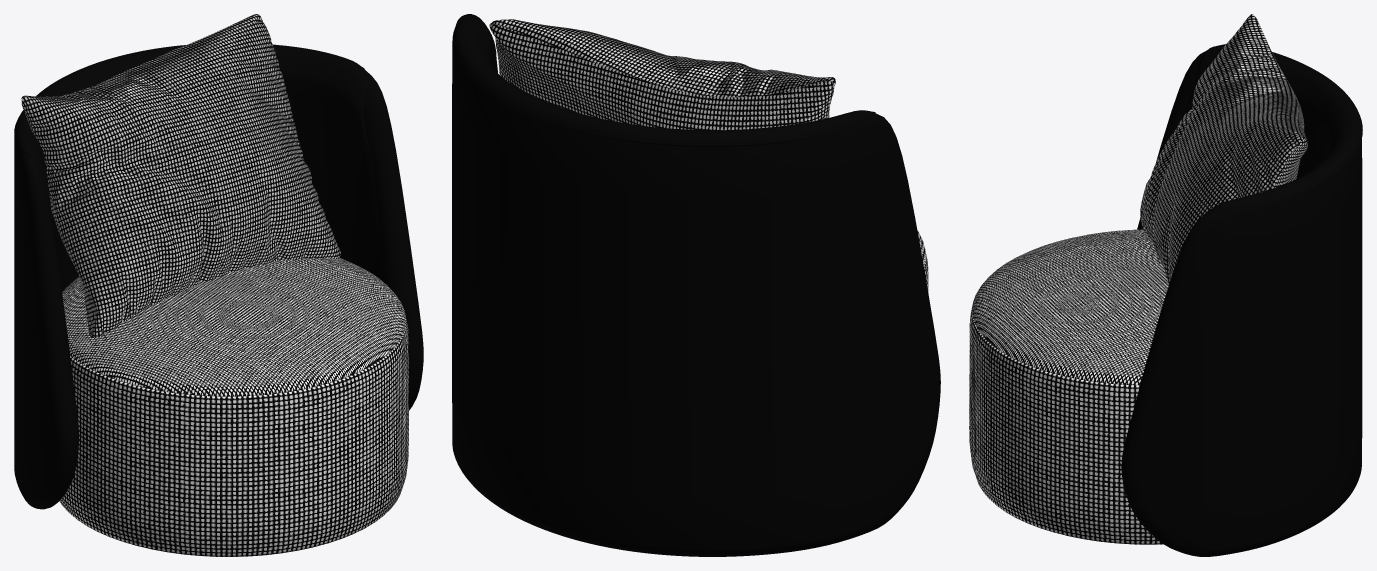
Rendered from pyora -opt.glb.
3 renders of one model, left to right at view 1: azimuth 30°, elevation 25°; view 2: azimuth 150°, elevation 25°; view 3: azimuth 270°, elevation 25°, orthographic. The views are drawn at different scales.
Visible parts, largest first — view 1: Sphere001; view 2: Sphere001; view 3: Sphere001.
Part boxes in pixels (<box>): Sphere001: <box>14,14,423,556</box>; Sphere001: <box>452,14,940,556</box>; Sphere001: <box>969,14,1362,556</box>.
Bounding box in the file's own units: 0.8113 × 0.8358 × 0.7563.
Materials: 3 (1 with a texture image).
